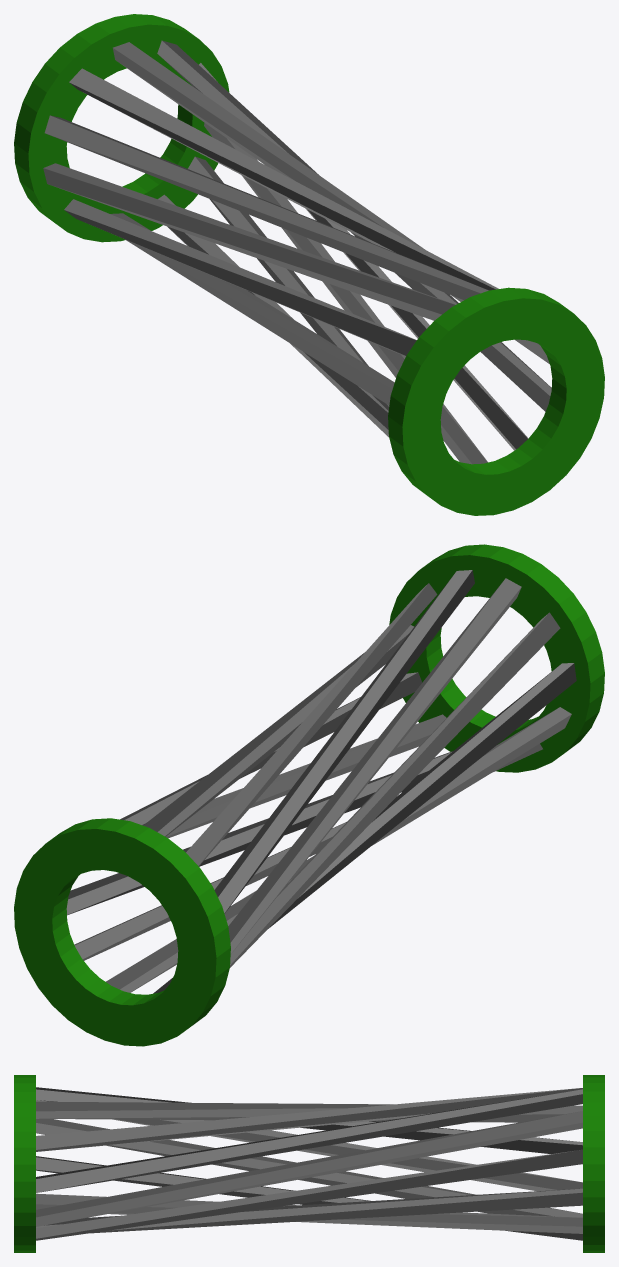
File: SM_Harvester.fbx
3 views of the same model, one above another, from view 1: azimuth 30°, elevation 25°; view 2: azimuth 150°, elevation 25°; view 3: azimuth 270°, elevation 25° (orthographic). The views are drawn at different scales.
Parts seen in each view (by area): view 1: Harvester; view 2: Harvester; view 3: Harvester.
Boxes of the visible parts, x1,y1,x2,y2 form: Harvester: (14, 14, 604, 515); Harvester: (14, 544, 604, 1046); Harvester: (14, 1075, 604, 1252).
Size of the model in its own units: 259 by 258 by 859.
